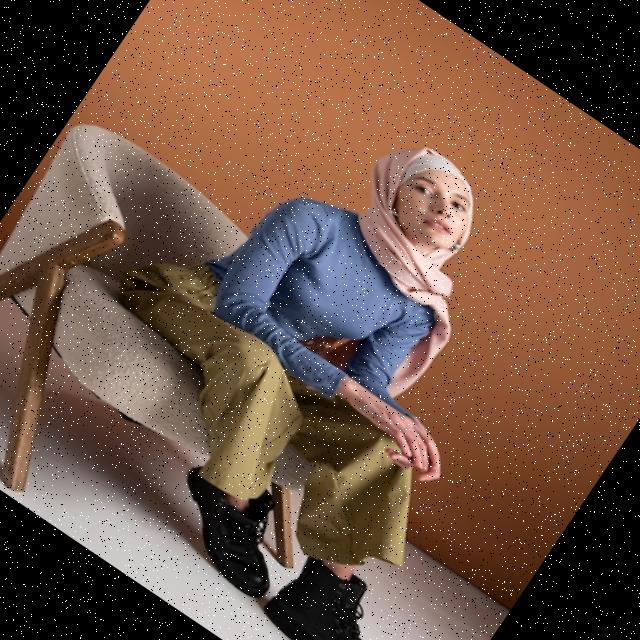Person: (0, 48, 640, 640)
